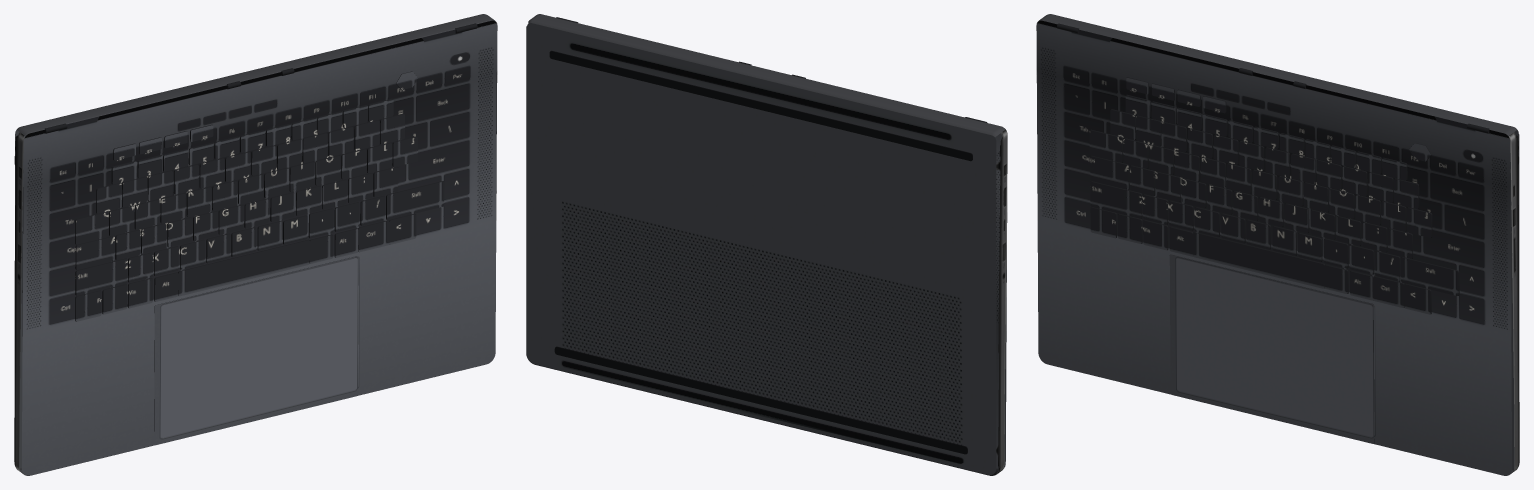
The model's file is body.obj.
The picture shows the model from 3 angles, left to right: view 1: azimuth 30°, elevation 25°; view 2: azimuth 150°, elevation 25°; view 3: azimuth 330°, elevation 25°; orthographic projection.
Parts seen in each view (by area): view 1: deck, keys.001, keys, base.002, base.003, base.004; view 2: base.004, base.005, base.002, base.003, deck, base; view 3: deck, keys.001, keys, base.002, base.001, base.004.
Boxes of the visible parts, x1=… form: deck: x1=22, y1=20, x2=497, y2=475; keys.001: x1=76, y1=71, x2=444, y2=321; keys: x1=75, y1=71, x2=443, y2=321; base.002: x1=16, y1=14, x2=495, y2=475; base.003: x1=14, y1=132, x2=24, y2=472; base.004: x1=15, y1=130, x2=25, y2=468; base.004: x1=527, y1=23, x2=996, y2=474; base.005: x1=549, y1=50, x2=972, y2=454; base.002: x1=528, y1=14, x2=1005, y2=475; base.003: x1=996, y1=130, x2=1007, y2=473; deck: x1=995, y1=129, x2=1006, y2=470; base: x1=526, y1=26, x2=998, y2=475; deck: x1=1036, y1=20, x2=1511, y2=475; keys.001: x1=1089, y1=78, x2=1458, y2=314; keys: x1=1090, y1=77, x2=1459, y2=313; base.002: x1=1038, y1=14, x2=1517, y2=475; base.001: x1=1509, y1=132, x2=1519, y2=472; base.004: x1=1508, y1=130, x2=1518, y2=468.
Size of the model in its own units: 354 by 246 by 15.16.
